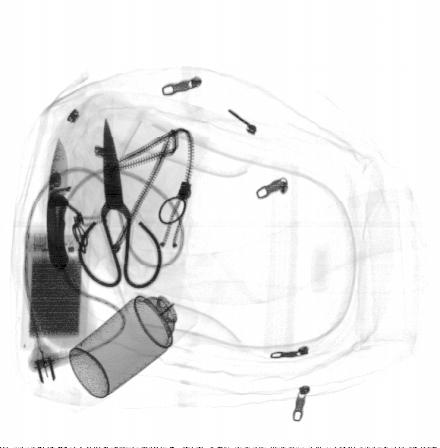Knife: (48, 132, 70, 271)
Powerbank: (18, 225, 95, 349)
Scissors: (78, 113, 164, 291)
Sprayer: (67, 271, 198, 399)
